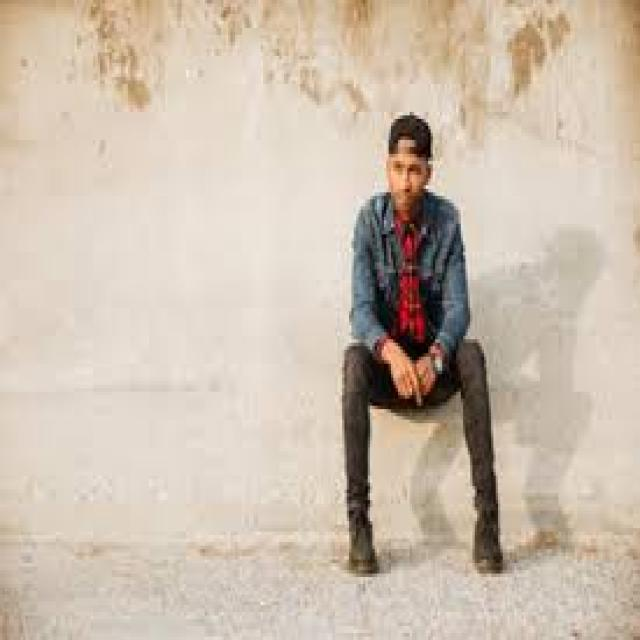cap: (386, 108, 436, 210)
